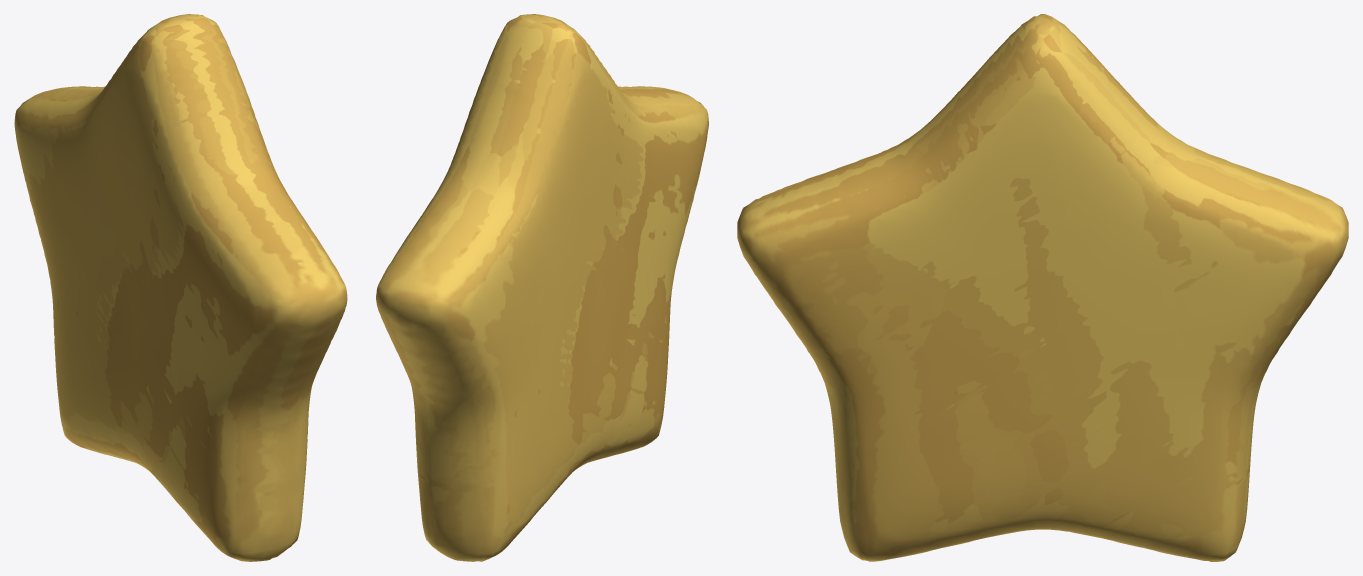
File: fluffulis star.fbx
3 views of the same model, side by side, from view 1: azimuth 30°, elevation 25°; view 2: azimuth 150°, elevation 25°; view 3: azimuth 270°, elevation 25° (orthographic). The views are drawn at different scales.
Parts seen in each view (by area): view 1: star; view 2: star; view 3: star.
Part boxes in pixels (<box>): star: <box>14,14,347,561</box>; star: <box>376,14,708,561</box>; star: <box>737,14,1348,561</box>.
Bounding box in the file's own units: 10.5 × 47.31 × 49.45.
Materials: 1 (1 with a texture image).
